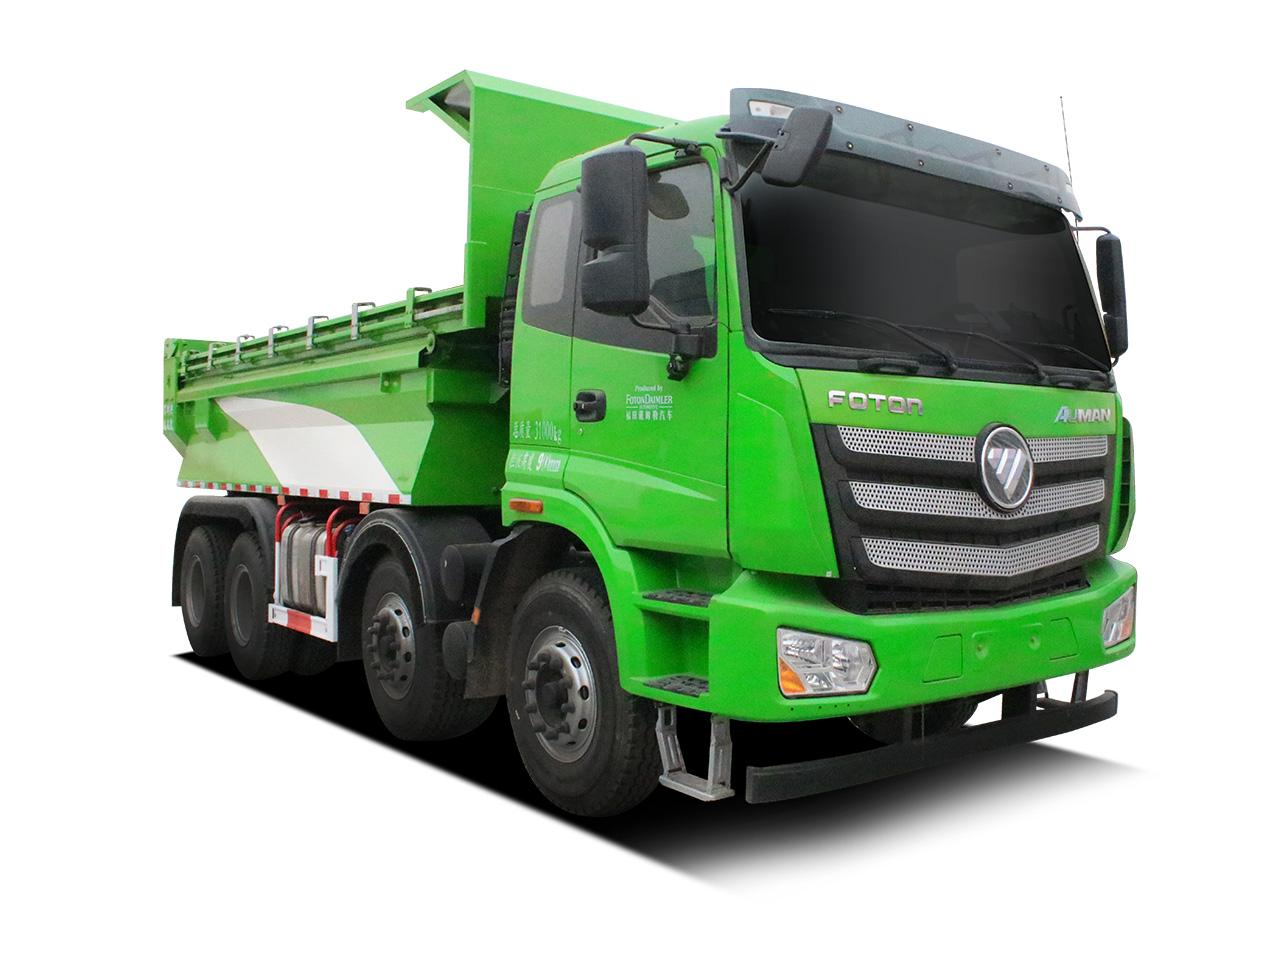truck: (117, 49, 1156, 864)
